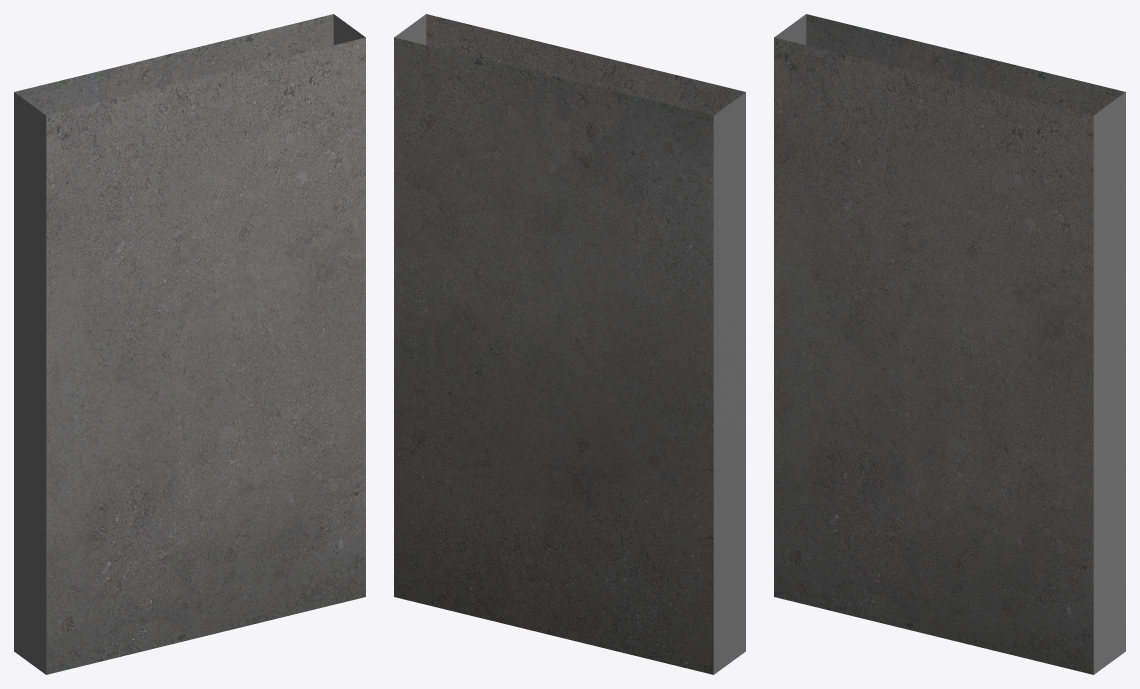
Rendered from ModuloPared (1).fbx.
3 views of the same model, side by side, from view 1: azimuth 30°, elevation 25°; view 2: azimuth 150°, elevation 25°; view 3: azimuth 330°, elevation 25° (orthographic).
Visible parts, largest first — view 1: MODULO_PARED.002; view 2: MODULO_PARED.002; view 3: MODULO_PARED.002.
Boxes of the visible parts, left/top/right/bottom form: MODULO_PARED.002: left=14, top=14, right=365, bottom=674; MODULO_PARED.002: left=394, top=14, right=745, bottom=674; MODULO_PARED.002: left=774, top=14, right=1125, bottom=674.
Size of the model in its own units: 403 by 674 by 70.
